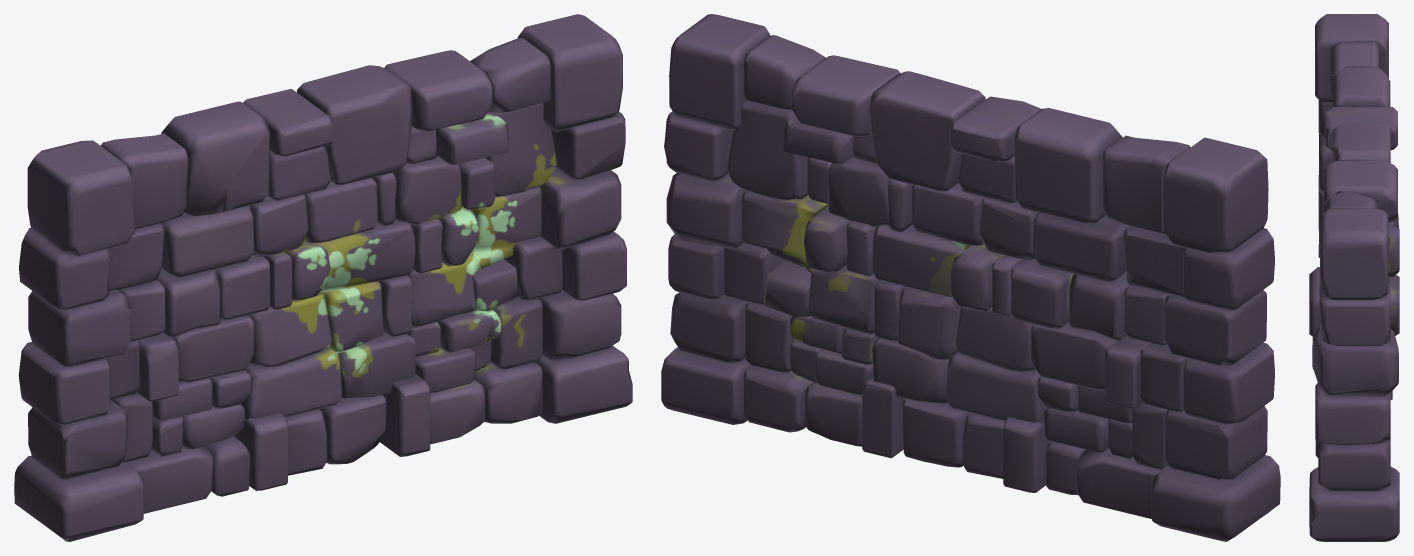
File: stone_wall_3d_model.fbx
3 views of the same model, side by side, from view 1: azimuth 30°, elevation 25°; view 2: azimuth 150°, elevation 25°; view 3: azimuth 270°, elevation 25° (orthographic). The views are drawn at different scales.
Parts seen in each view (by area): view 1: tripo_439876ee_4ff0_4163_b7cc_c154ca973b35; view 2: tripo_439876ee_4ff0_4163_b7cc_c154ca973b35; view 3: tripo_439876ee_4ff0_4163_b7cc_c154ca973b35.
Boxes of the visible parts, x1,y1,x2,y2 form: tripo_439876ee_4ff0_4163_b7cc_c154ca973b35: (14,14,632,541); tripo_439876ee_4ff0_4163_b7cc_c154ca973b35: (661,14,1280,541); tripo_439876ee_4ff0_4163_b7cc_c154ca973b35: (1309,14,1399,541).
Size of the model in its own units: 0.9995 by 0.6157 by 0.1636.
1 material, 1 textured.
